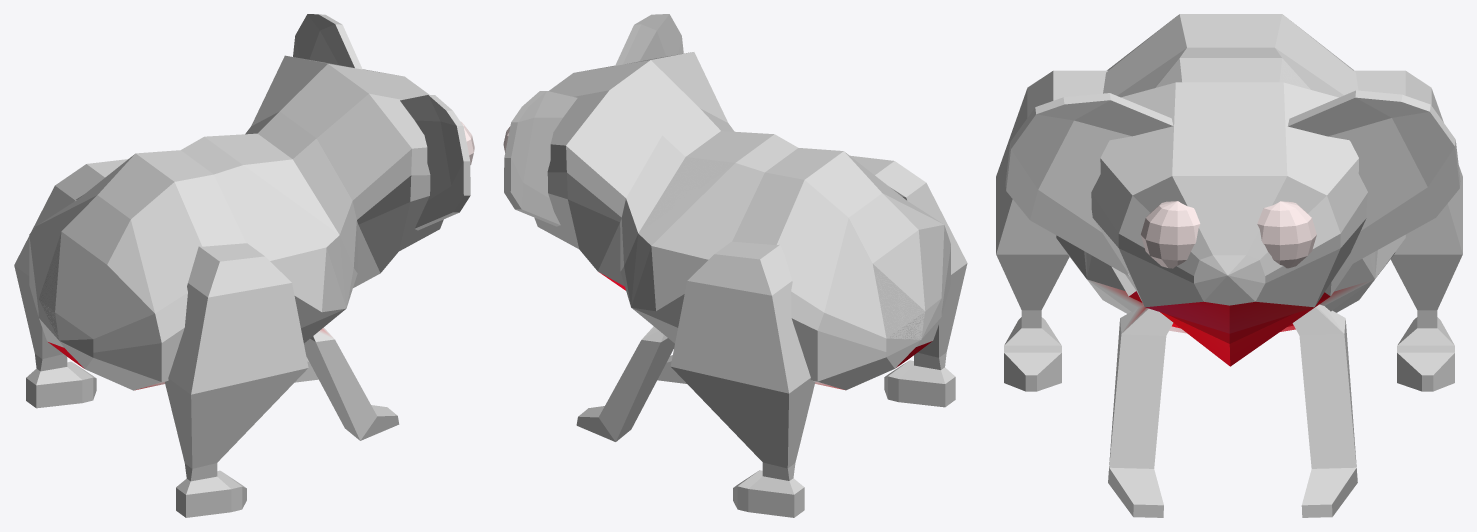
The model's file is koala.fbx.
3 views of the same model, side by side, from view 1: azimuth 30°, elevation 25°; view 2: azimuth 150°, elevation 25°; view 3: azimuth 270°, elevation 25° (orthographic). The views are drawn at different scales.
Parts seen in each view (by area): view 1: Koala; view 2: Koala; view 3: Koala.
Boxes of the visible parts, x1,y1,x2,y2 form: Koala: (14, 14, 474, 517); Koala: (503, 14, 967, 517); Koala: (996, 14, 1462, 517).
Bounding box in the file's own units: 199 × 158 × 152.
